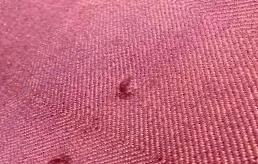knot: (113, 75, 138, 102), (45, 152, 75, 163)
